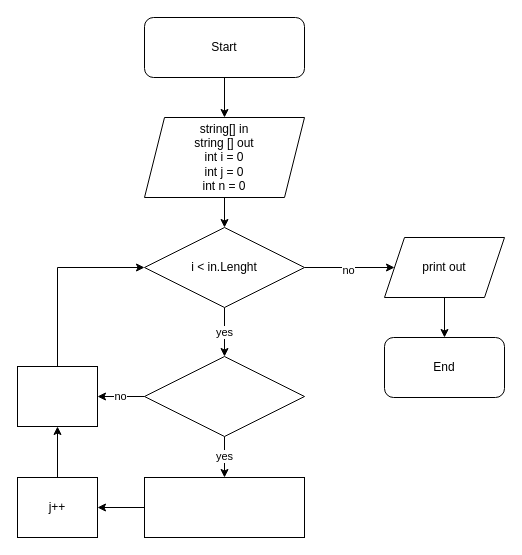
Image size: 522x555. Some labels were removed from this diagram. The shapes that lost their labels are listed below. From the top down, each one's box as (x1, y1, x2, y2) in pixels, then its label:
(16, 366, 98, 426): i++
(144, 356, 304, 436): in[i].Length <= n
(144, 476, 304, 538): out[j] =in[i]
